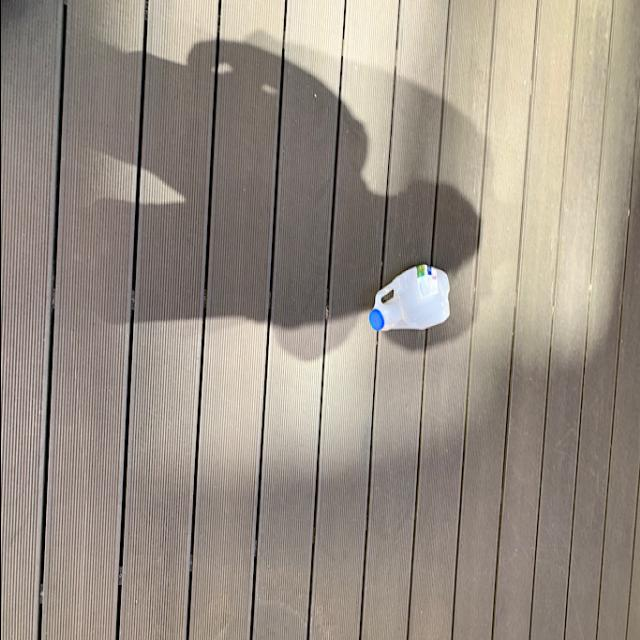HDPEM: (368, 262, 453, 334)
